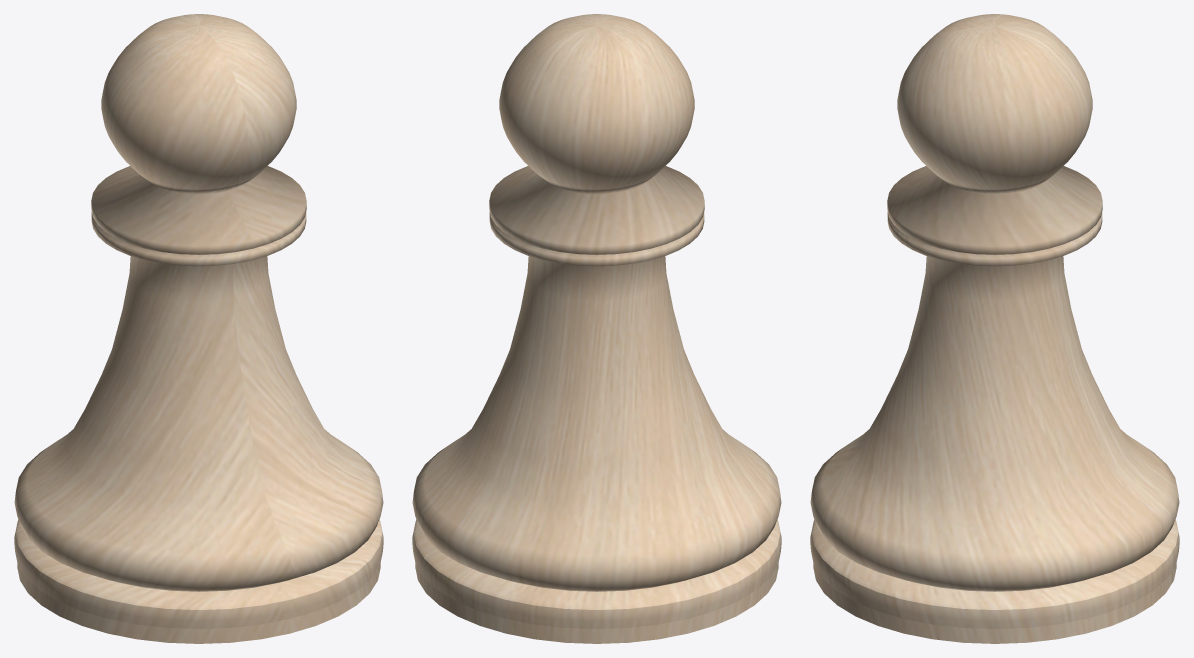
File: pawn.glb
The picture shows the model from 3 angles, left to right: view 1: azimuth 30°, elevation 25°; view 2: azimuth 150°, elevation 25°; view 3: azimuth 270°, elevation 25°; orthographic projection.
Visible parts, largest first — view 1: Object004_02 - Default_0; view 2: Object004_02 - Default_0; view 3: Object004_02 - Default_0.
Part boxes in pixels (x1,y1,x2,y2): Object004_02 - Default_0: (14, 14, 383, 643); Object004_02 - Default_0: (412, 14, 781, 643); Object004_02 - Default_0: (810, 14, 1179, 643).
Bounding box in the file's own units: 0.0125 × 0.0203 × 0.0125.
Materials: 1 (1 with a texture image).
